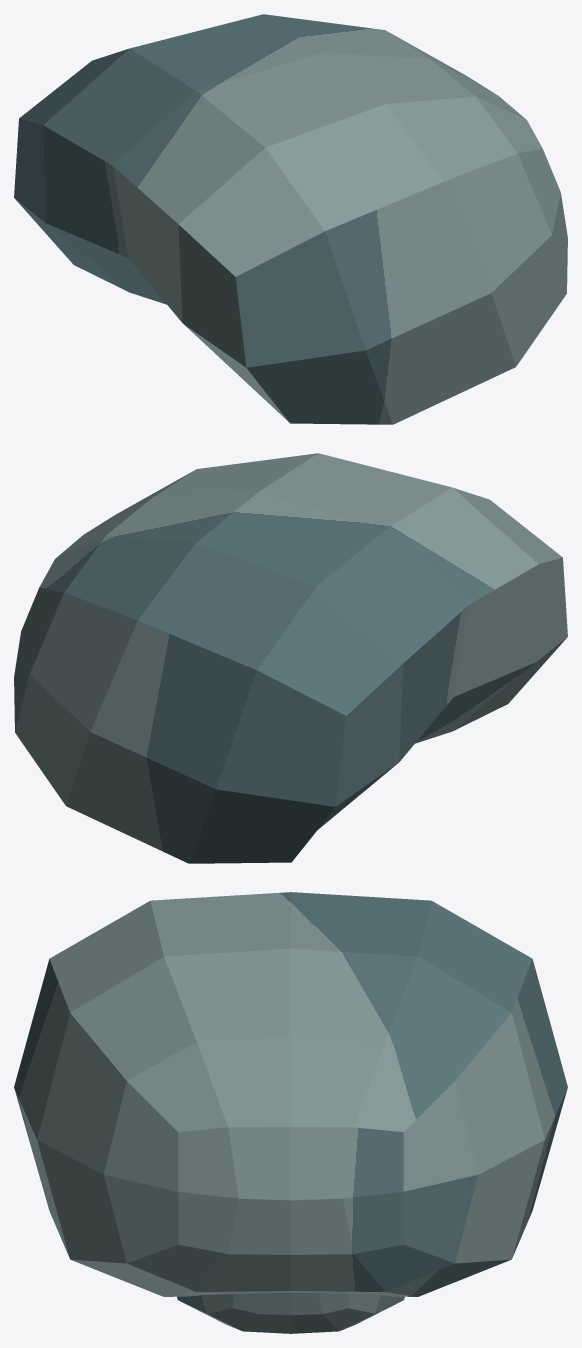
File: graysealsnout.fbx
3 renders of one model, top to bottom at view 1: azimuth 30°, elevation 25°; view 2: azimuth 150°, elevation 25°; view 3: azimuth 270°, elevation 25°, orthographic. The views are drawn at different scales.
Parts seen in each view (by area): view 1: snout; view 2: snout; view 3: snout.
Boxes of the visible parts, box(x1,y1,x2,y2) form: snout: box(14, 14, 567, 424); snout: box(14, 453, 567, 863); snout: box(14, 892, 567, 1333).
Size of the model in its own units: 65.67 by 47.58 by 72.7.
